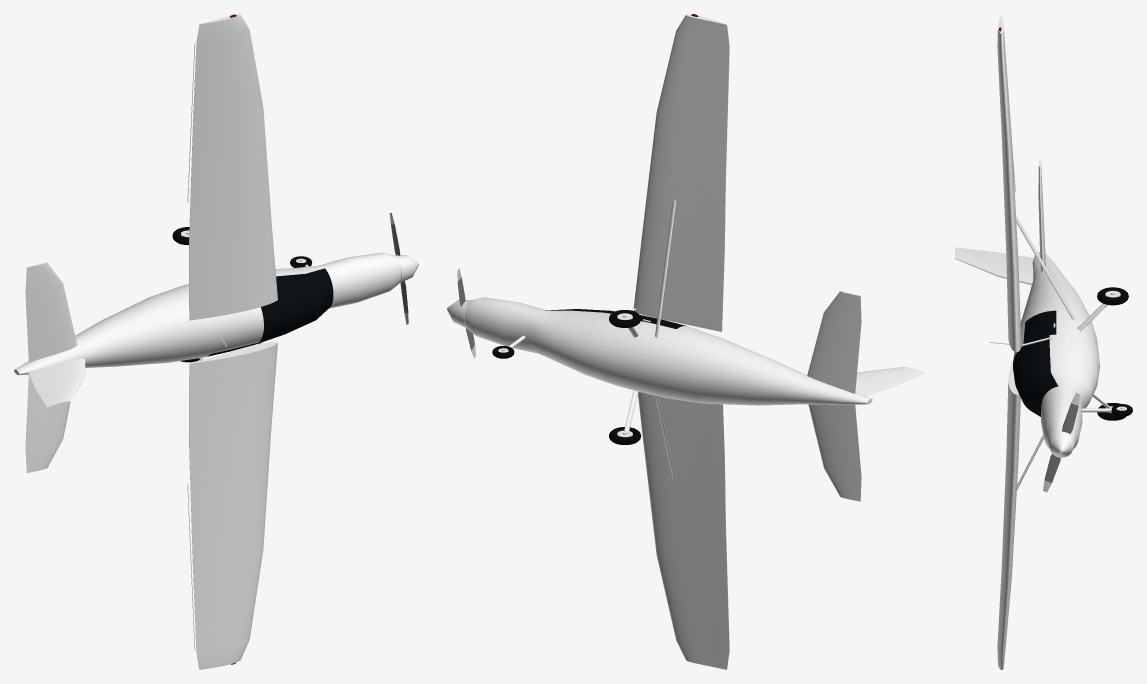
The model's file is airplane.obj.
The picture shows the model from 3 angles, left to right: view 1: azimuth 30°, elevation 25°; view 2: azimuth 150°, elevation 25°; view 3: azimuth 270°, elevation 25°; orthographic projection.
Parts seen in each view (by area): view 1: AirframeWhite, AircraftBlue, TintedGlazing; view 2: AirframeWhite, AircraftBlue, BrushedMetal, Rubber; view 3: AirframeWhite, AircraftBlue, TintedGlazing, BrushedMetal, Rubber, RotorCarbon.
Part boxes in pixels (x1=…): AirframeWhite: x1=14, y1=14, x2=401, y2=652; AircraftBlue: x1=35, y1=14, x2=418, y2=669; TintedGlazing: x1=207, y1=268, x2=333, y2=356; AirframeWhite: x1=464, y1=14, x2=894, y2=652; AircraftBlue: x1=447, y1=15, x2=926, y2=669; BrushedMetal: x1=493, y1=200, x2=675, y2=482; Rubber: x1=492, y1=310, x2=640, y2=444; AirframeWhite: x1=997, y1=14, x2=1111, y2=656; AircraftBlue: x1=955, y1=29, x2=1075, y2=669; TintedGlazing: x1=1013, y1=310, x2=1058, y2=416; BrushedMetal: x1=1016, y1=215, x2=1126, y2=489; Rubber: x1=1097, y1=287, x2=1132, y2=420; RotorCarbon: x1=1044, y1=393, x2=1078, y2=482.
Bounding box in the file's own units: 7.45 × 10.86 × 2.74.
12 materials, 8 textured.
